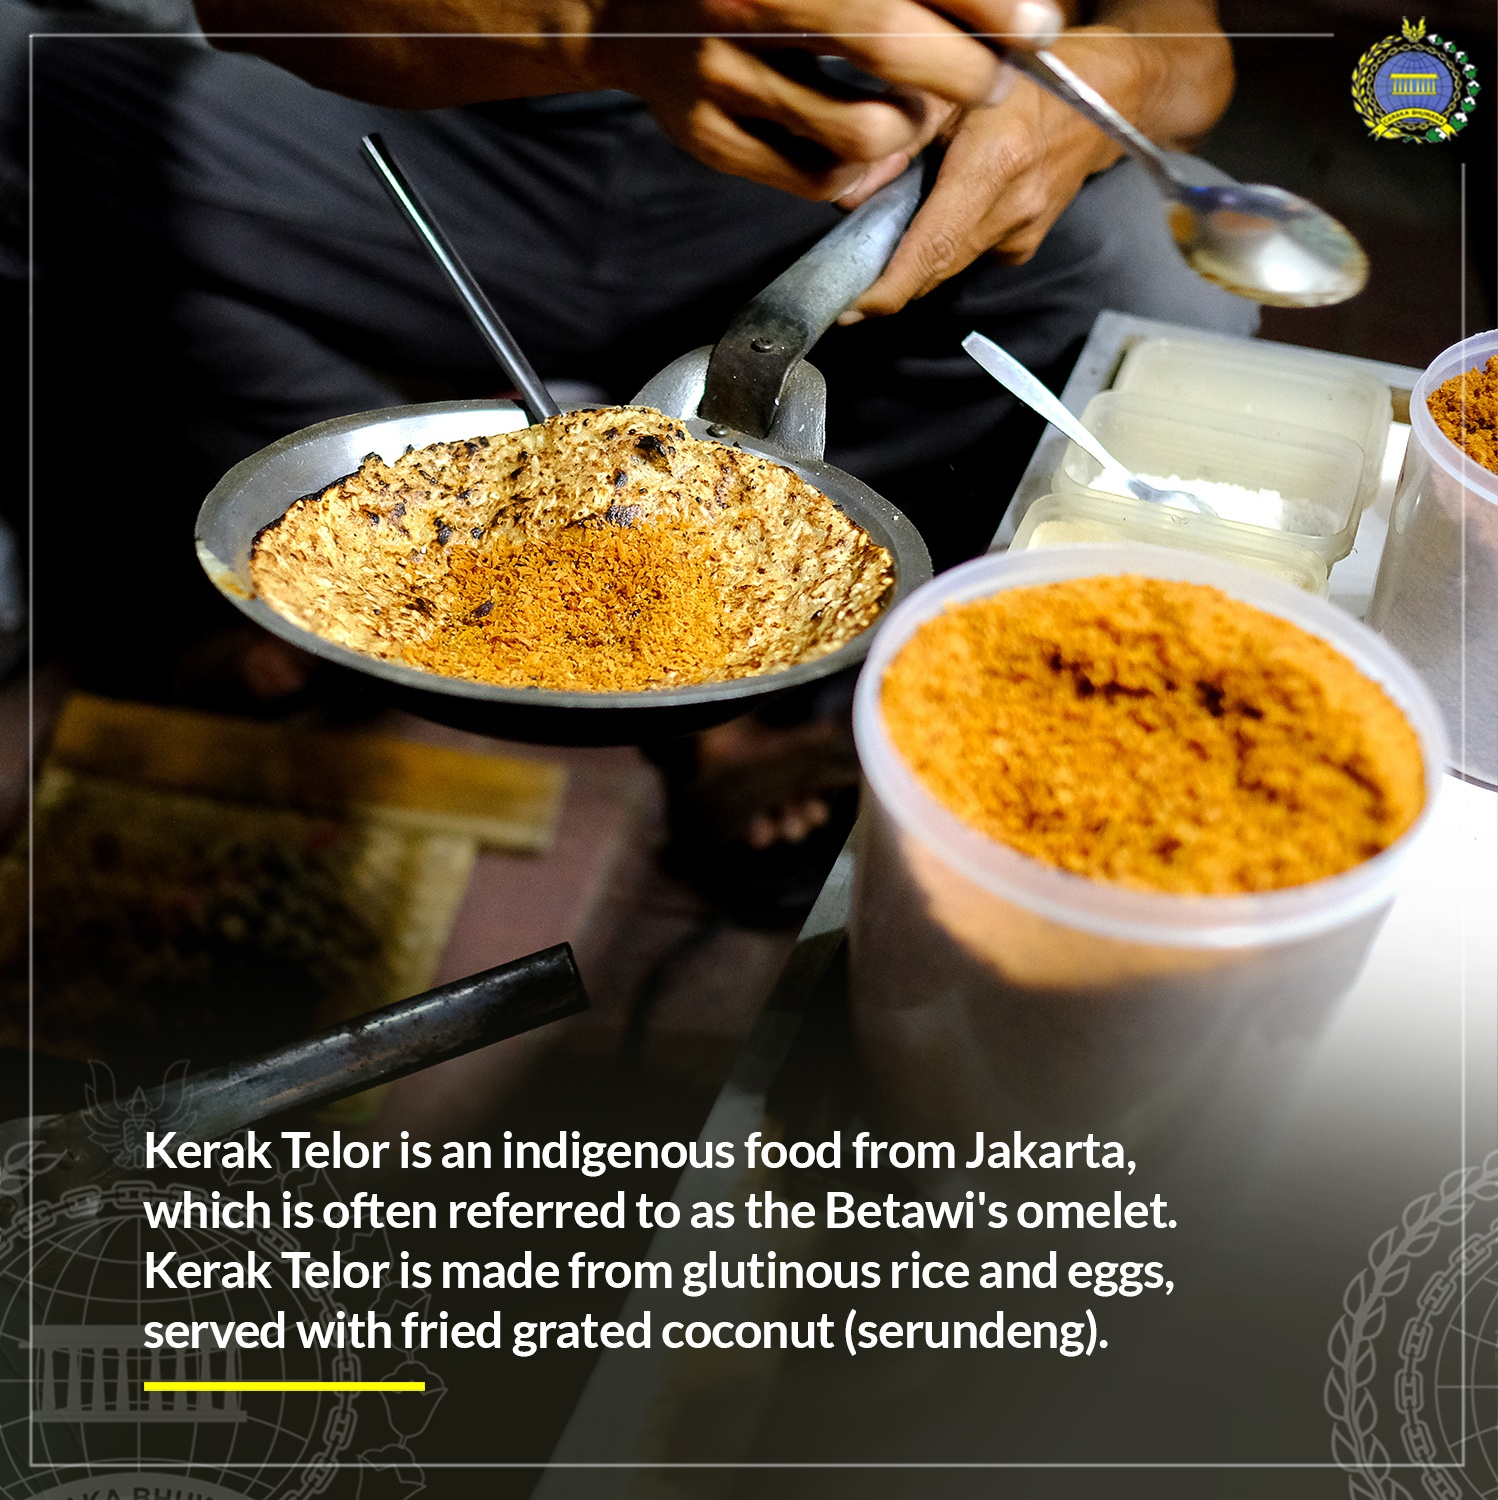kerak_telor: (246, 408, 890, 694)
